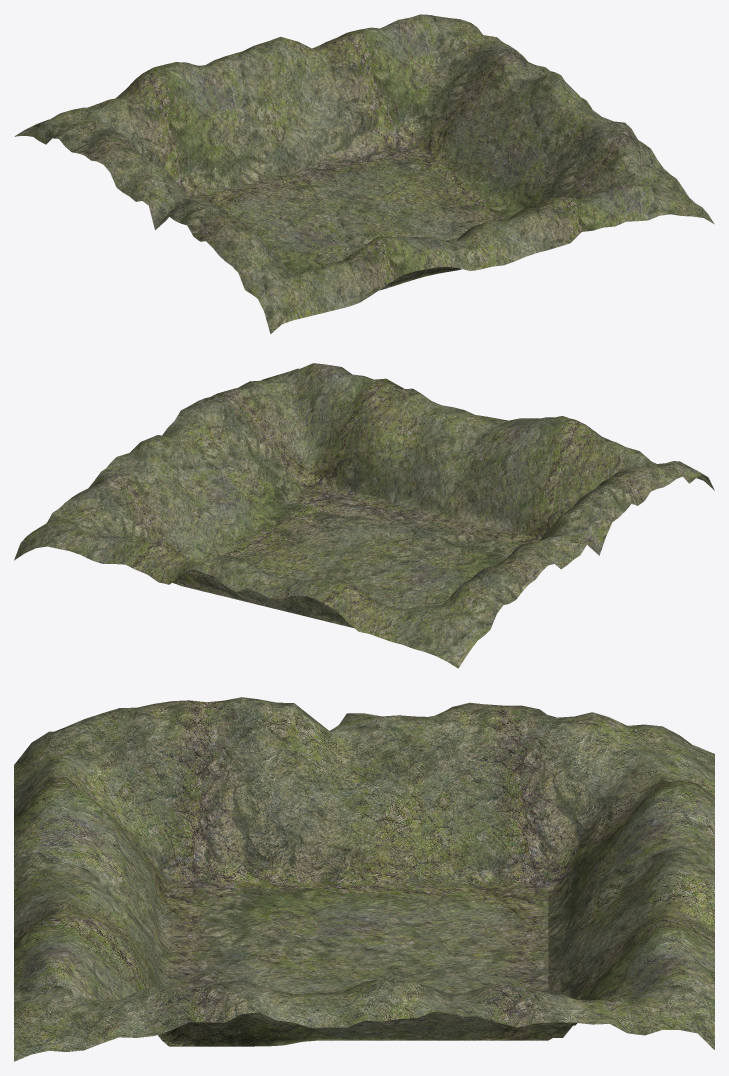
Rendered from mountain.fbx.
3 views of the same model, one above another, from view 1: azimuth 30°, elevation 25°; view 2: azimuth 150°, elevation 25°; view 3: azimuth 270°, elevation 25° (orthographic). The views are drawn at different scales.
Parts seen in each view (by area): view 1: ground; view 2: ground; view 3: ground.
Boxes of the visible parts, x1,y1,x2,y2 form: ground: (14,14,714,334); ground: (14,363,714,668); ground: (14,697,714,1061).
Bounding box in the file's own units: 92.84 × 19.1 × 92.84.
